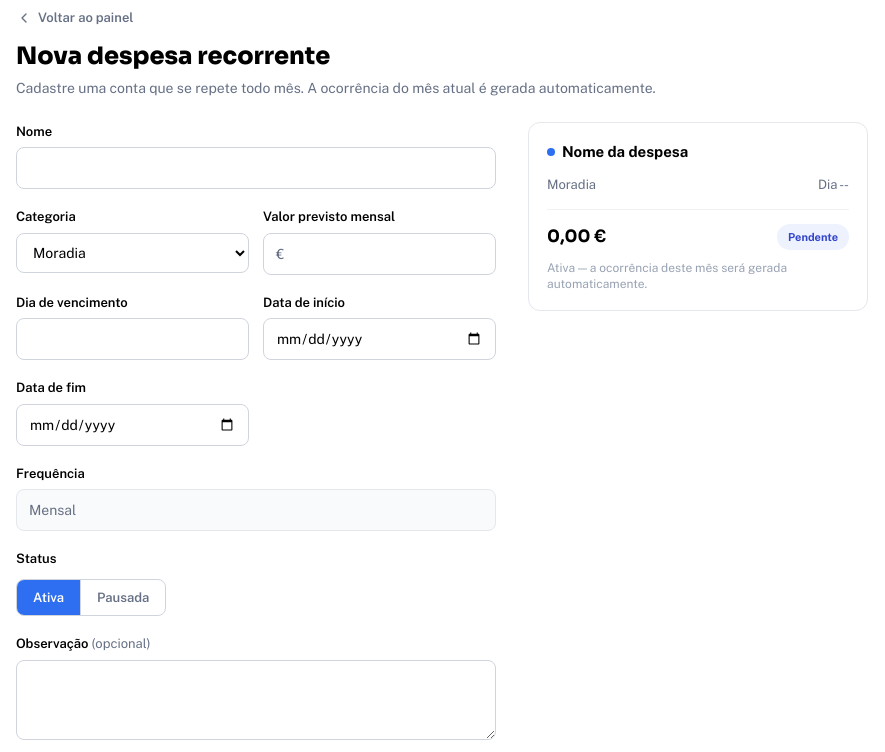
it: CadastroDespesaRecorrenteComponent › shows the error banner and retains all field values on a network/5xx failure (US4-1, FR-015, SC-004)
The image size is (885, 752).
Type "Aluguel" into the field with test id "nome-input" at (256, 168), box [16,147,496,189]
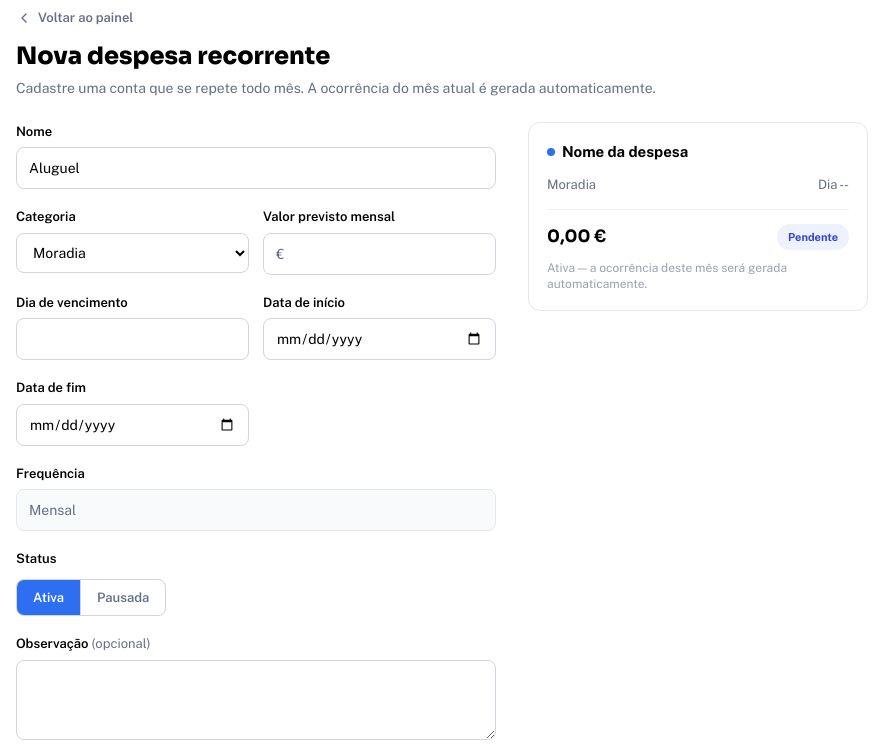
Select "Moradia" in the dropdown with test id "categoria-select" at (132, 252), box [16,232,249,272]
Type "1500,50" into the field with test id "valor-input" at (387, 254), box [290,234,483,274]
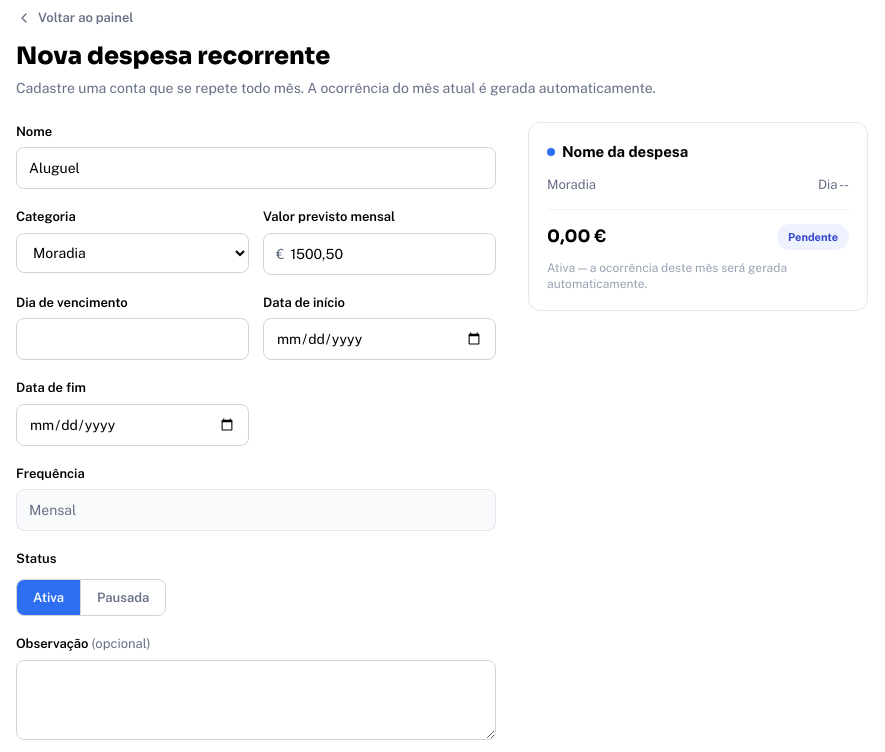
Type "5" into the field with test id "dia-input" at (132, 339), box [16,318,249,360]
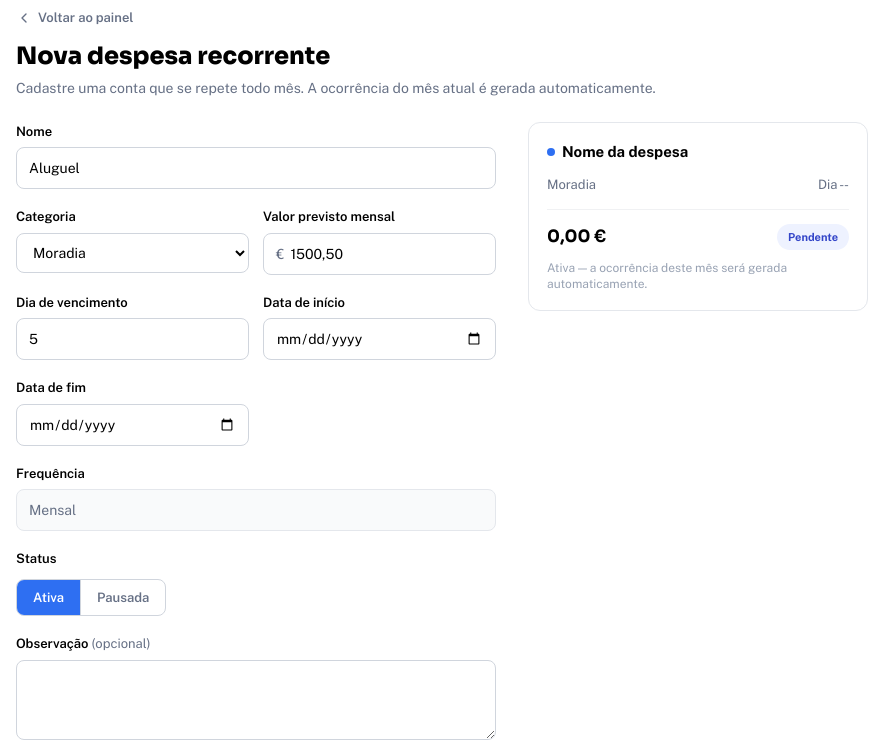
Type "2026-09-01" into the date field with test id "data-inicio-input" at (380, 339), box [263,318,496,360]
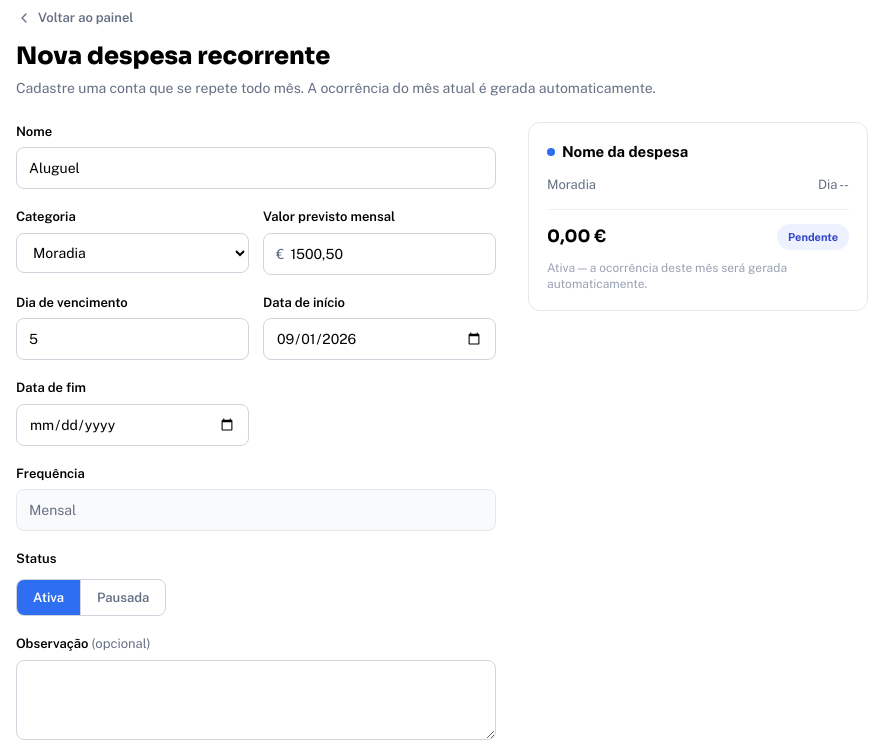
Type "2026-09-30" into the date field with test id "data-fim-input" at (132, 424), box [16,404,249,446]
(page scrolled)
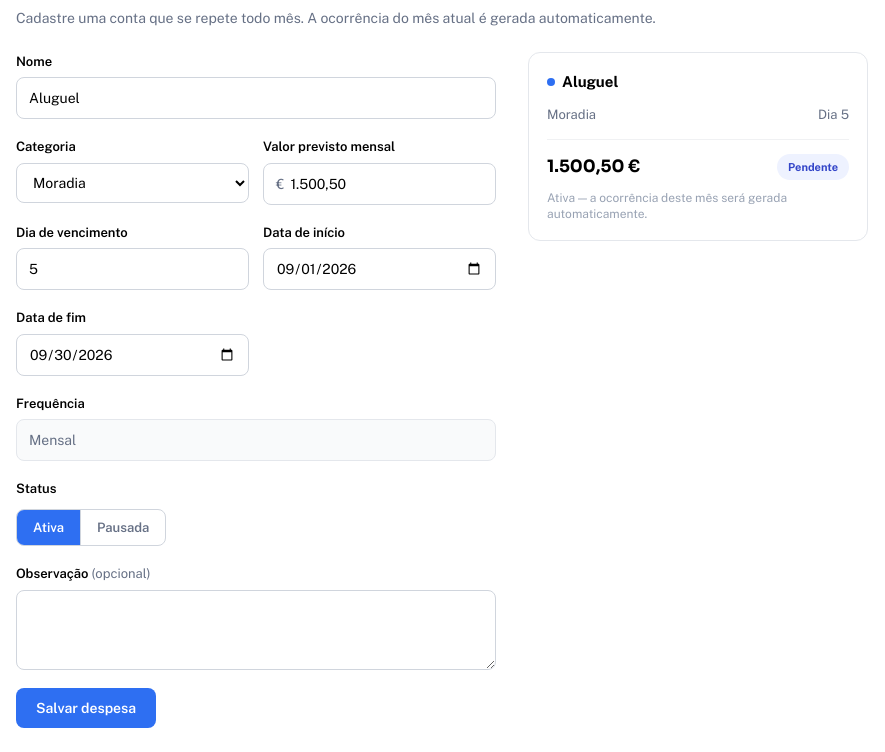
Click the button with test id "salvar-btn" at (86, 708), box [16,688,156,728]
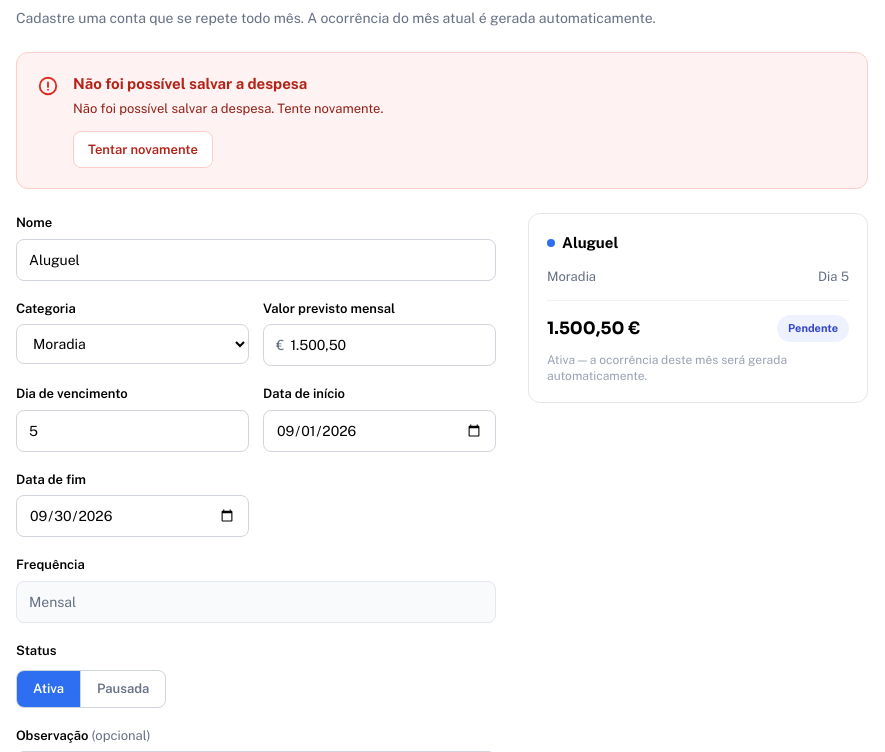
Now the text "Aluguel" is shown, box [562,232,618,254]
Now the message with test id "erro-banner" is shown, box [16,52,868,189]
